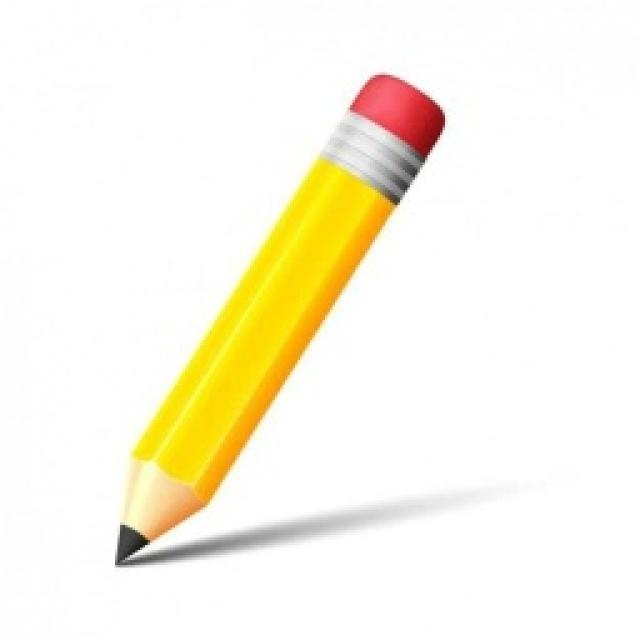pencil: (110, 67, 450, 565)
